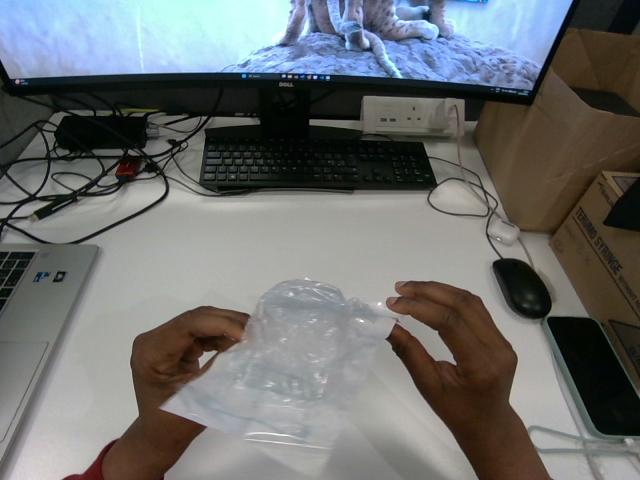gallipot: (163, 280, 394, 474)
